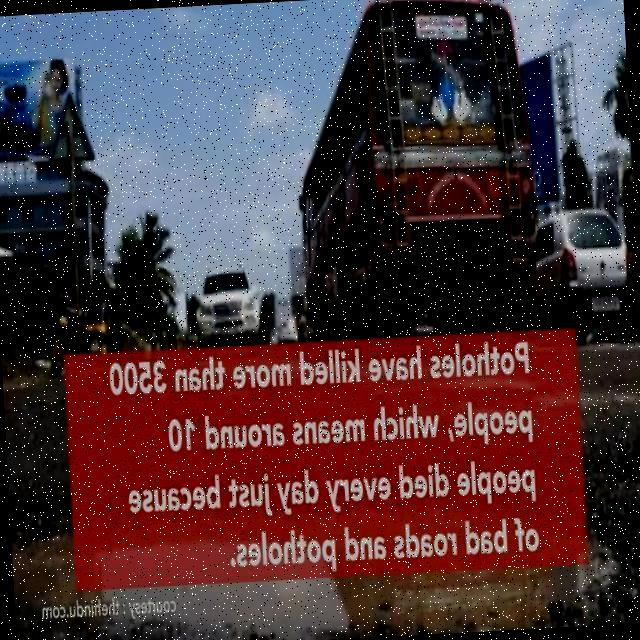pothole: (11, 481, 635, 640)
